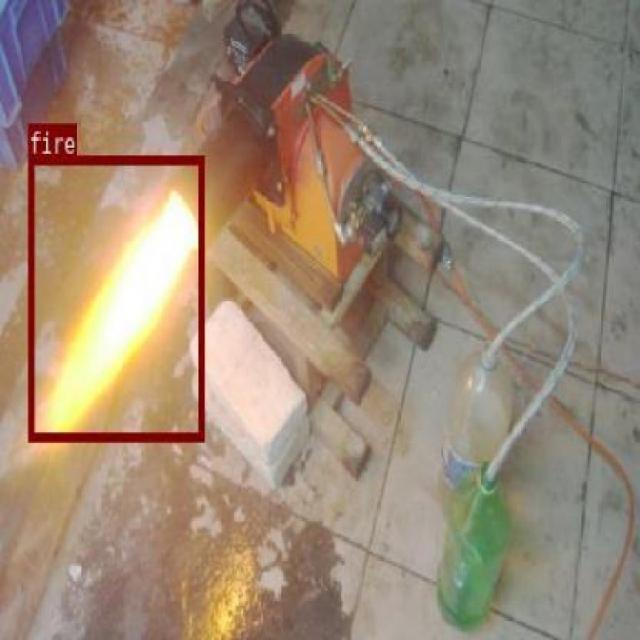Fire: (28, 154, 204, 440)
